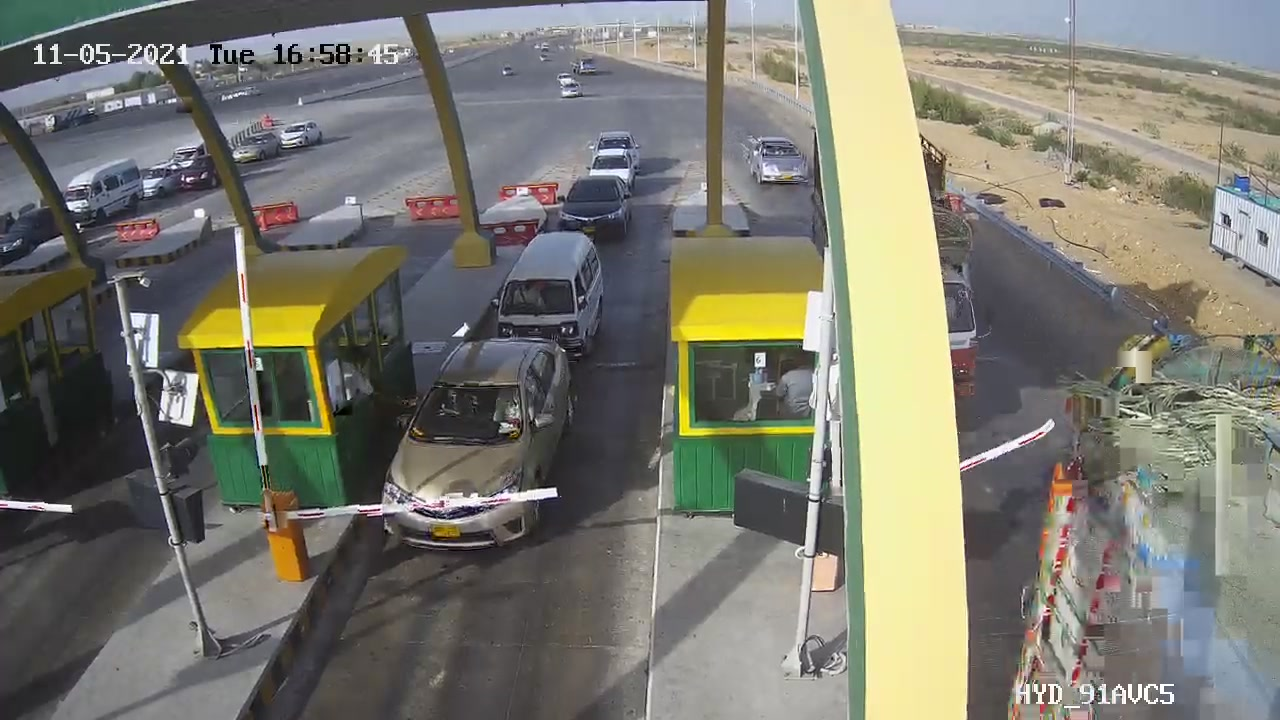F1: (363, 323, 592, 567), (478, 218, 620, 380), (542, 164, 646, 254)
